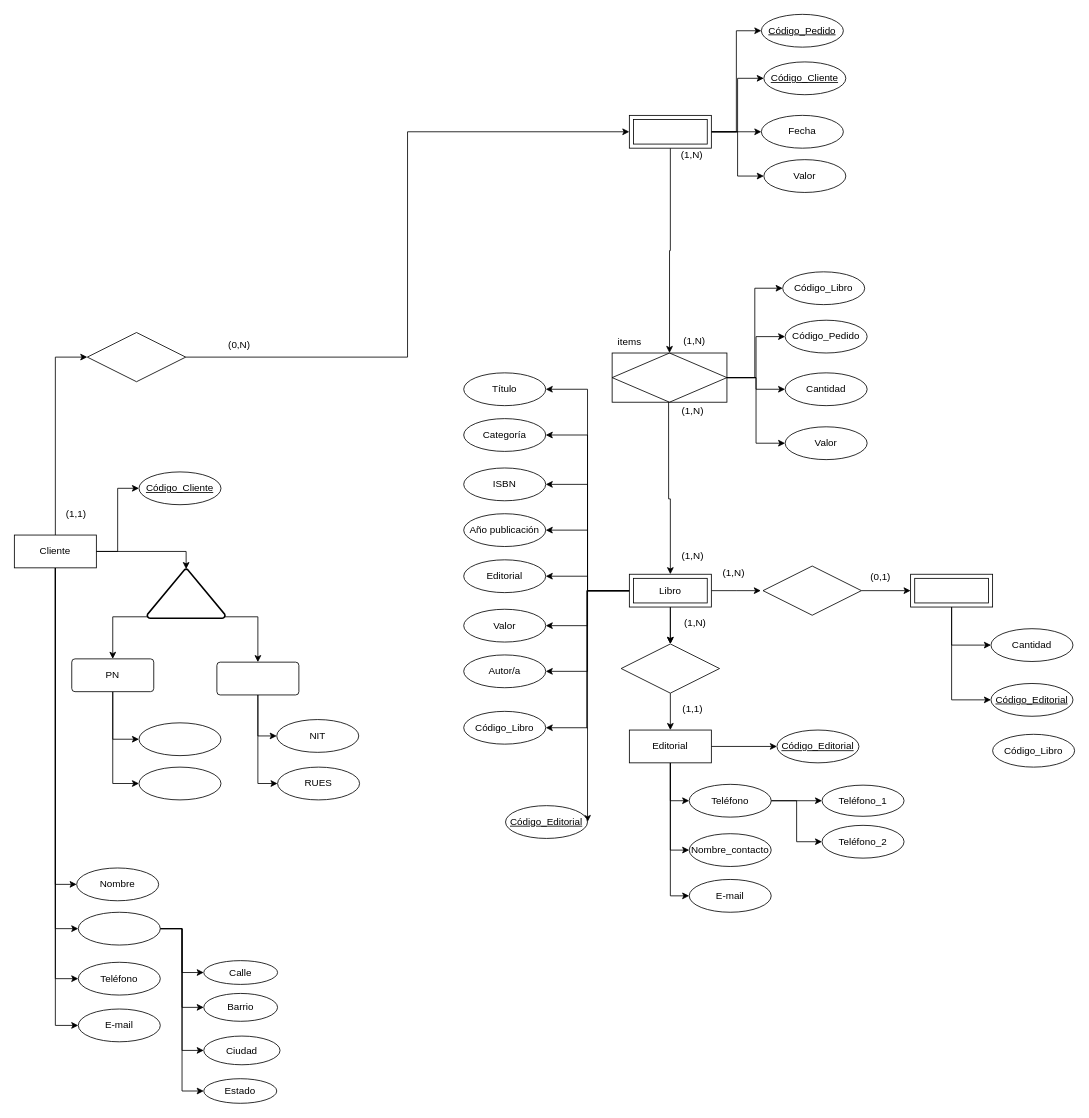
Image size: 1089x1118. Some labels were removed from this diagram. The shapes that lost their labels are listed below. From the top down, each one's centre as x and y in pixels, then its label:
[670,131]: Pedido
[136,357]: Realiza
[669,377]: Contiene
[186,593]: ID
[811,590]: Existe
[951,590]: Inventario
[257,678]: PJ
[670,668]: Pertenece
[179,739]: DNI
[179,783]: RUT
[118,928]: Dirección
